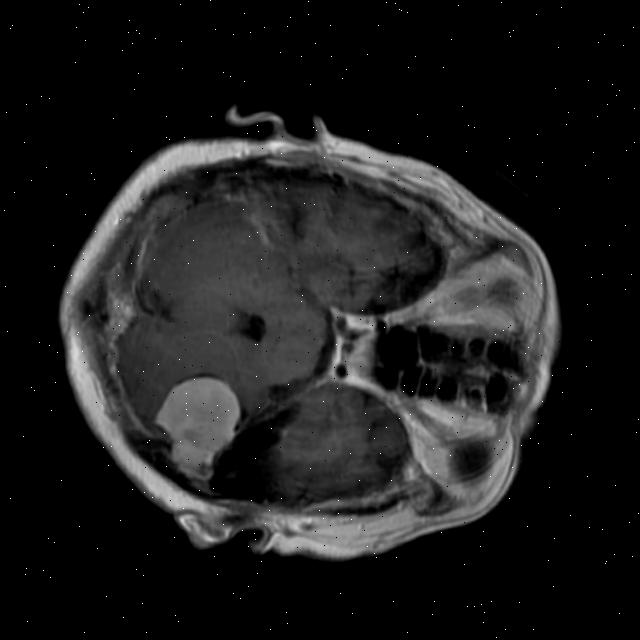Meningioma: (144, 368, 252, 485)
